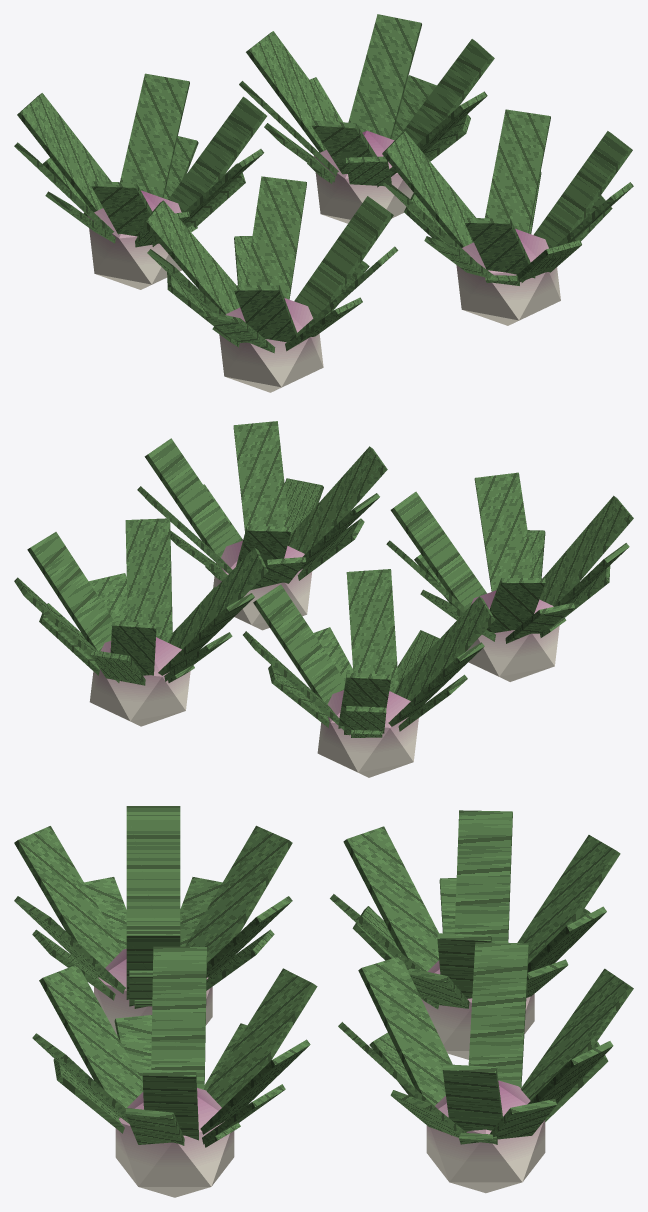
The model's file is crop-turnip.glb.
The picture shows the model from 3 angles, top to bottom: view 1: azimuth 30°, elevation 25°; view 2: azimuth 150°, elevation 25°; view 3: azimuth 270°, elevation 25°; orthographic projection. The views are drawn at different scales.
Parts seen in each view (by area): view 1: stage-2, stage-1, stage-0; view 2: stage-2, stage-1, stage-0; view 3: stage-2, stage-1, stage-0.
Boxes of the visible parts, bbox=[...] form: stage-2: bbox=[14, 14, 633, 392]; stage-1: bbox=[43, 75, 612, 353]; stage-0: bbox=[83, 163, 519, 347]; stage-2: bbox=[14, 421, 633, 777]; stage-1: bbox=[39, 478, 610, 734]; stage-0: bbox=[168, 566, 566, 737]; stage-2: bbox=[14, 806, 633, 1197]; stage-1: bbox=[32, 877, 608, 1145]; stage-0: bbox=[134, 992, 497, 1147].
Size of the model in its own units: 1.18 by 0.3903 by 1.16.
1 material, 1 textured.
